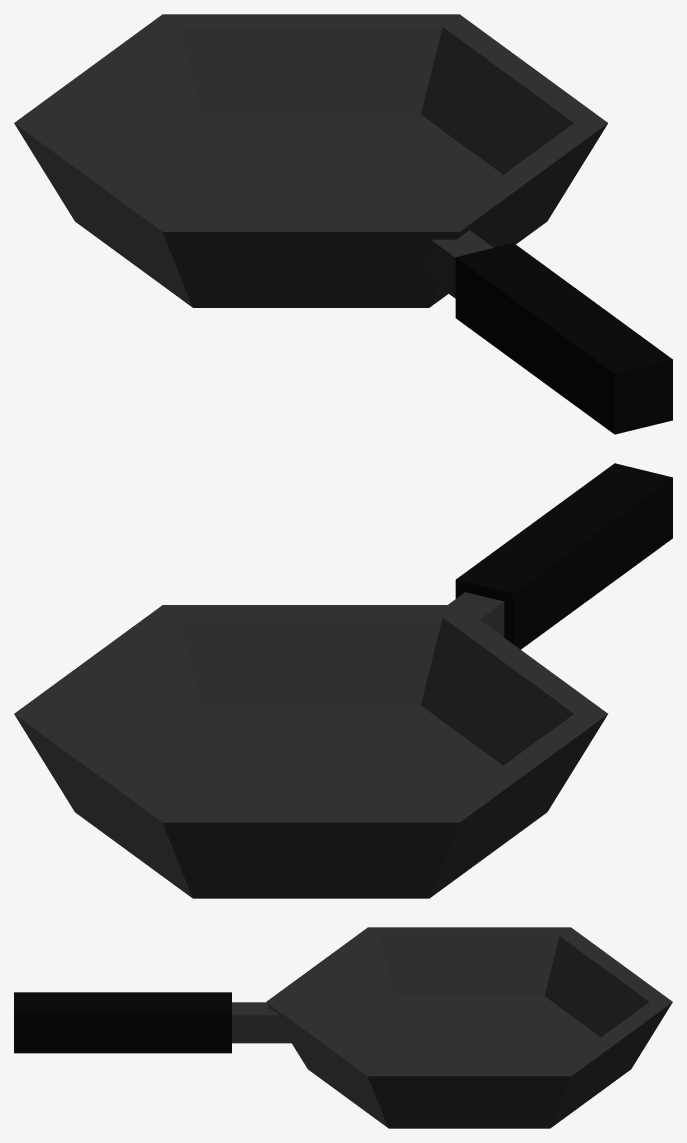
File: roastingPan2_PLY.fbx
3 views of the same model, one above another, from view 1: azimuth 30°, elevation 25°; view 2: azimuth 150°, elevation 25°; view 3: azimuth 270°, elevation 25° (orthographic). The views are drawn at different scales.
Visible parts, largest first — view 1: roastingPan2_PLY; view 2: roastingPan2_PLY; view 3: roastingPan2_PLY.
Boxes of the visible parts, left/top/right/bottom form: roastingPan2_PLY: left=14, top=14, right=672, bottom=434; roastingPan2_PLY: left=14, top=463, right=672, bottom=898; roastingPan2_PLY: left=14, top=927, right=672, bottom=1128.
Bounding box in the file's own units: 1.21 × 0.2558 × 2.27.
